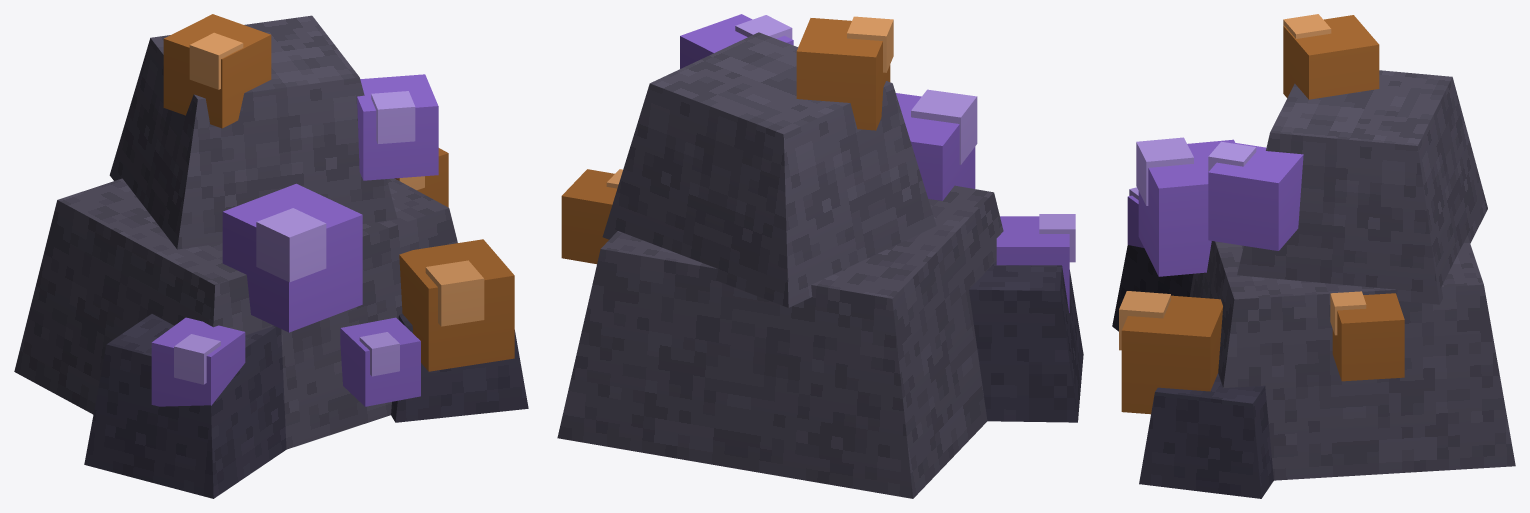
Rendered from res_ore.glb.
3 views of the same model, side by side, from view 1: azimuth 30°, elevation 25°; view 2: azimuth 150°, elevation 25°; view 3: azimuth 270°, elevation 25° (orthographic). The views are drawn at different scales.
Visible parts, largest first — view 1: res_ore; view 2: res_ore; view 3: res_ore.
Boxes of the visible parts, box(x1,y1,x2,y2) form: res_ore: box(14, 14, 528, 498); res_ore: box(557, 14, 1083, 498); res_ore: box(1112, 14, 1515, 498).
Bounding box in the file's own units: 1.28 × 1.03 × 1.08.
Materials: 6 (2 with a texture image).
